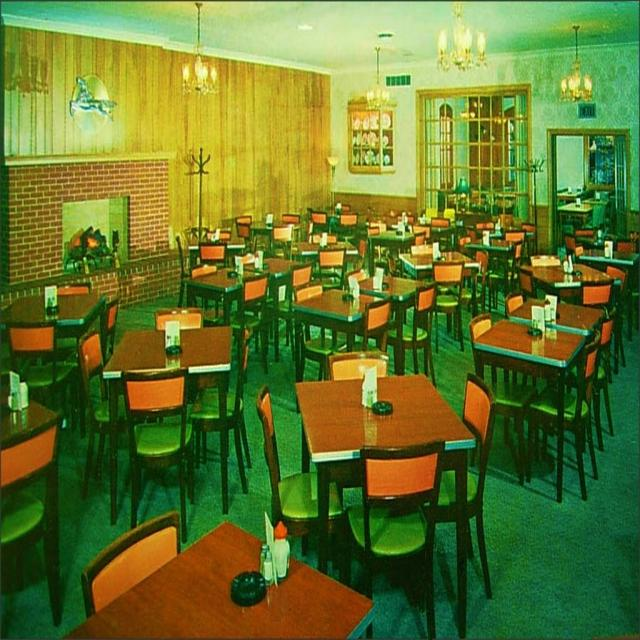chair: (255, 383, 349, 581), (346, 443, 441, 637), (426, 374, 496, 634), (0, 400, 64, 632), (190, 291, 254, 509), (526, 321, 602, 503), (124, 367, 194, 545), (81, 515, 181, 621), (78, 330, 123, 509), (8, 325, 77, 429), (388, 285, 438, 385), (432, 260, 464, 352), (329, 350, 388, 382), (317, 249, 347, 292), (100, 298, 118, 362)
desk: (486, 289, 619, 505)
